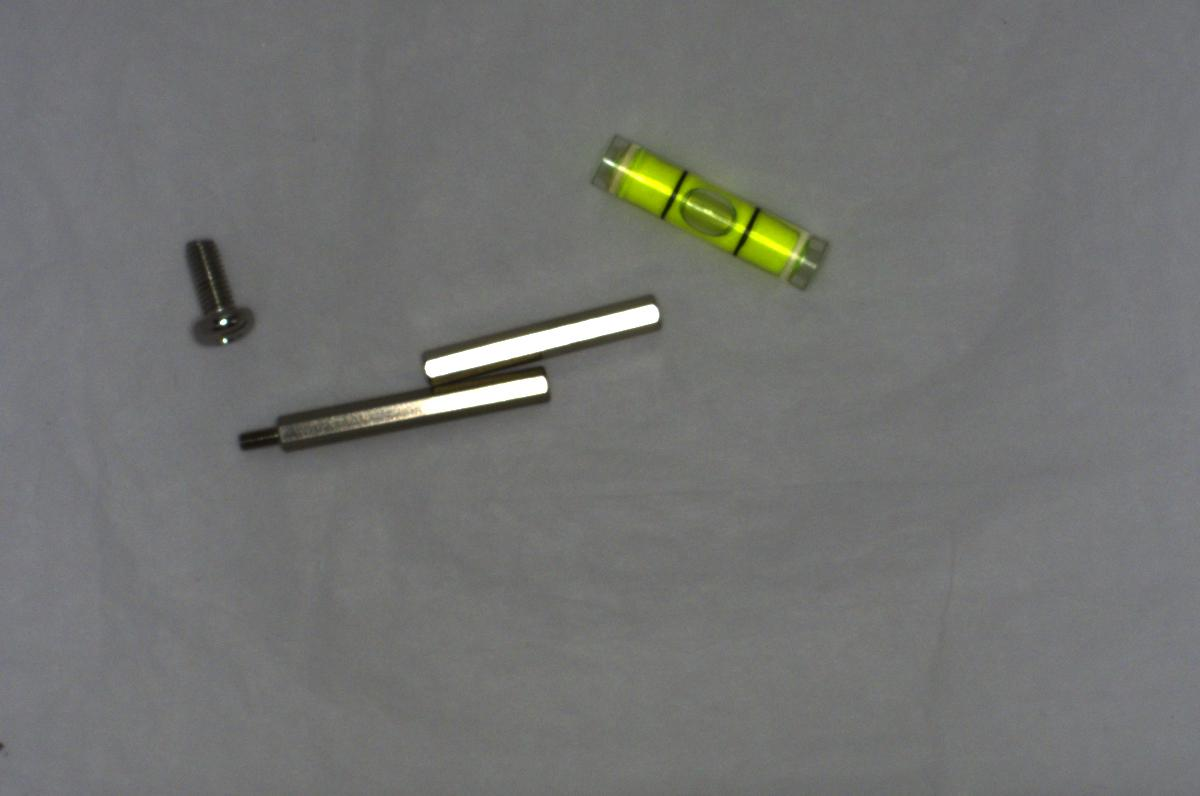Double hexagonal column: (415, 287, 670, 388)
Hexagonal steel column: (232, 368, 552, 461)
Horizontal bubble: (591, 128, 837, 294)
Round head screw: (177, 225, 260, 359)
